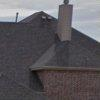Chimney: (53, 1, 79, 44)
